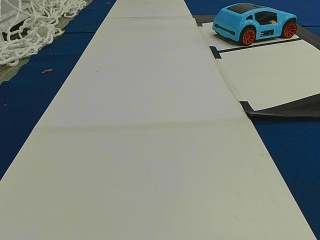car: (212, 5, 296, 44)
